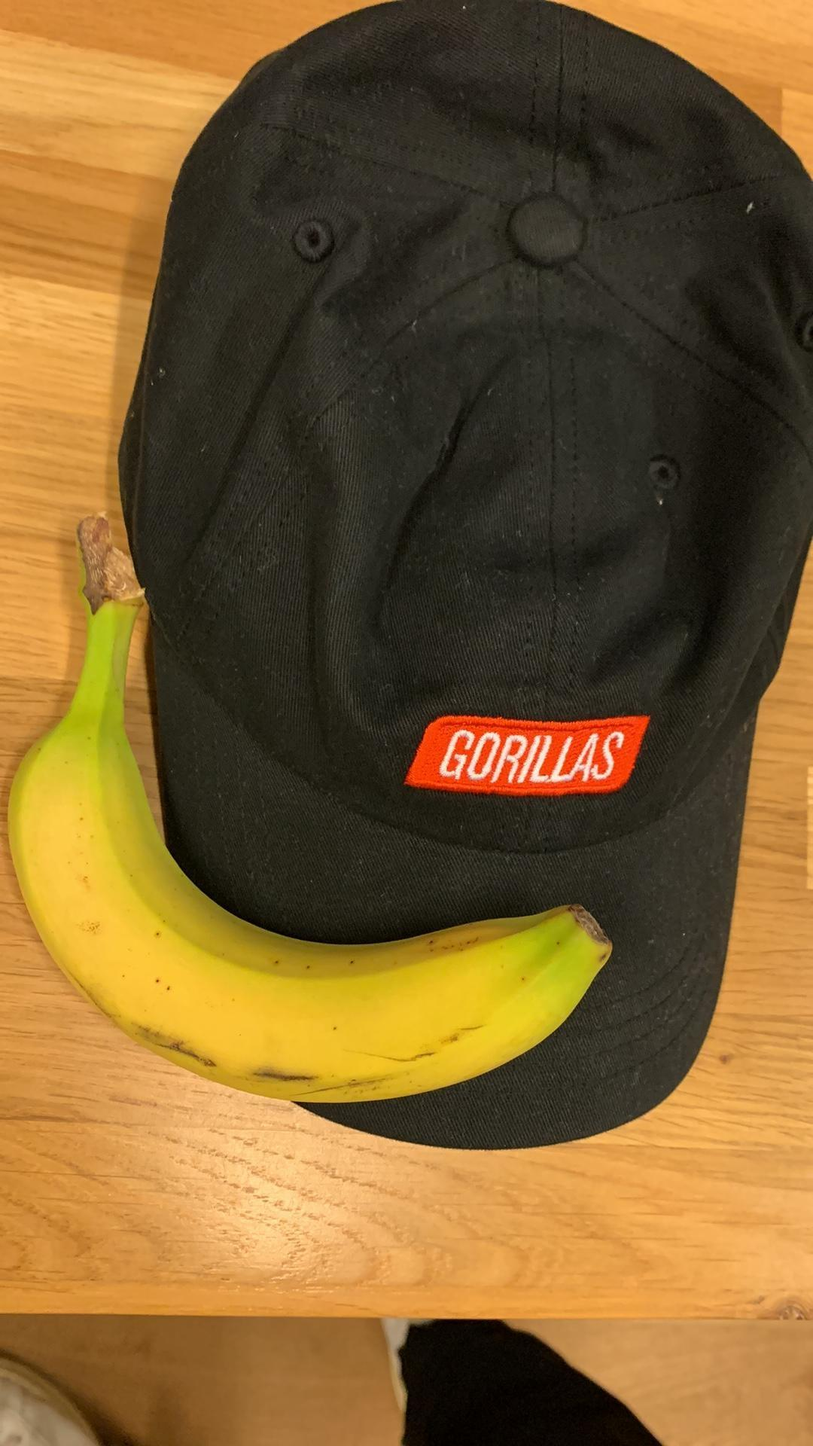banana: (9, 506, 623, 1101)
